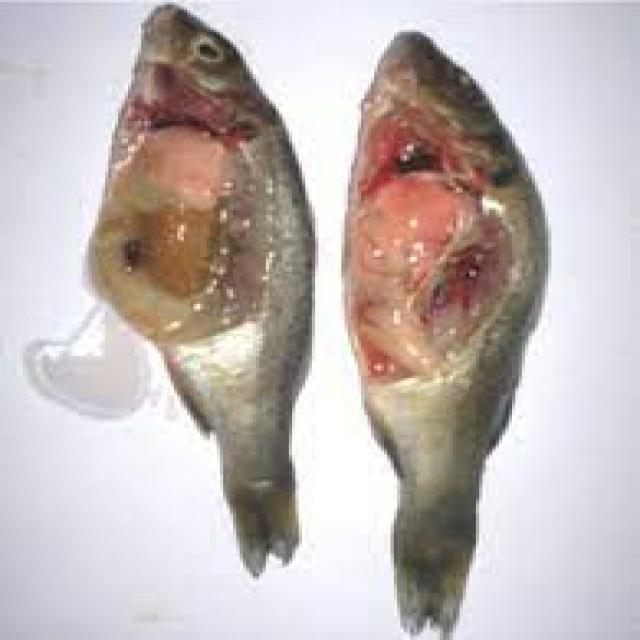EUS Disease: (84, 0, 552, 640), (325, 61, 549, 455), (56, 52, 295, 417)
